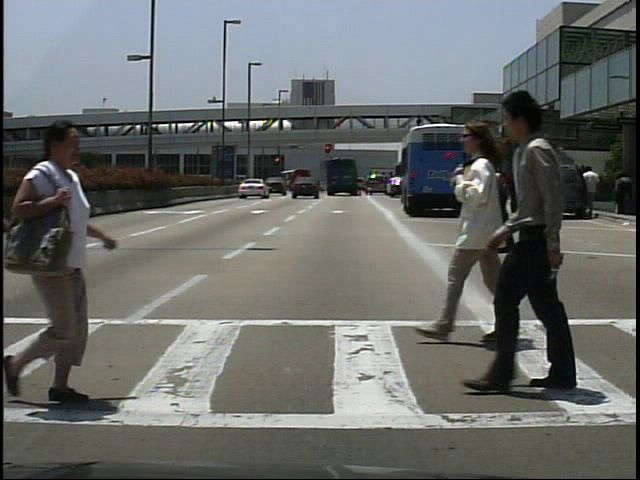person: (483, 79, 612, 397), (20, 120, 128, 410), (424, 117, 518, 366), (485, 162, 503, 215), (585, 165, 603, 218), (507, 166, 524, 216)
